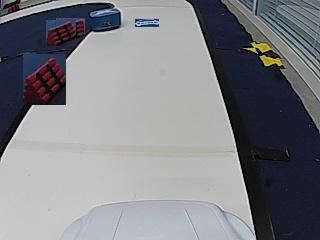prop: (91, 8, 121, 32)
